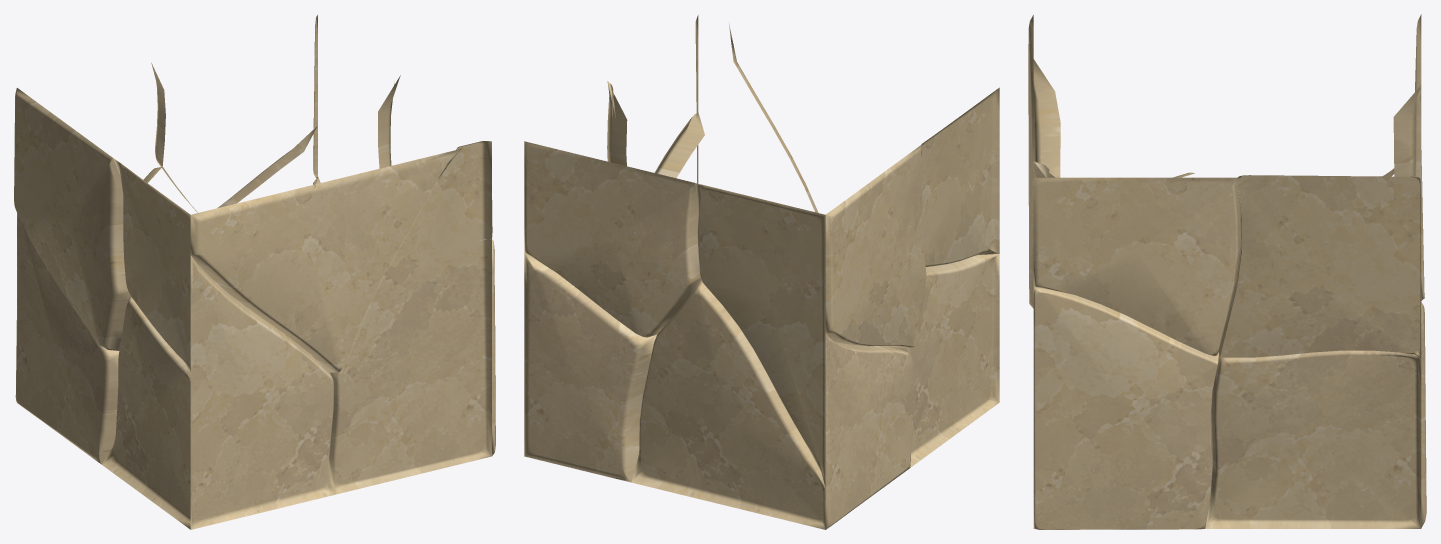
Rendered from GroundRock01.glb.
3 views of the same model, side by side, from view 1: azimuth 30°, elevation 25°; view 2: azimuth 150°, elevation 25°; view 3: azimuth 270°, elevation 25° (orthographic). The views are drawn at different scales.
Parts seen in each view (by area): view 1: ground_rock_01; view 2: ground_rock_01; view 3: ground_rock_01.
Part boxes in pixels (x1,y1,x2,y2): ground_rock_01: (14,14,495,529); ground_rock_01: (524,15,999,529); ground_rock_01: (1028,14,1426,529).
Size of the model in its own units: 1.03 by 1 by 1.03.
Materials: 16 (16 with a texture image).
